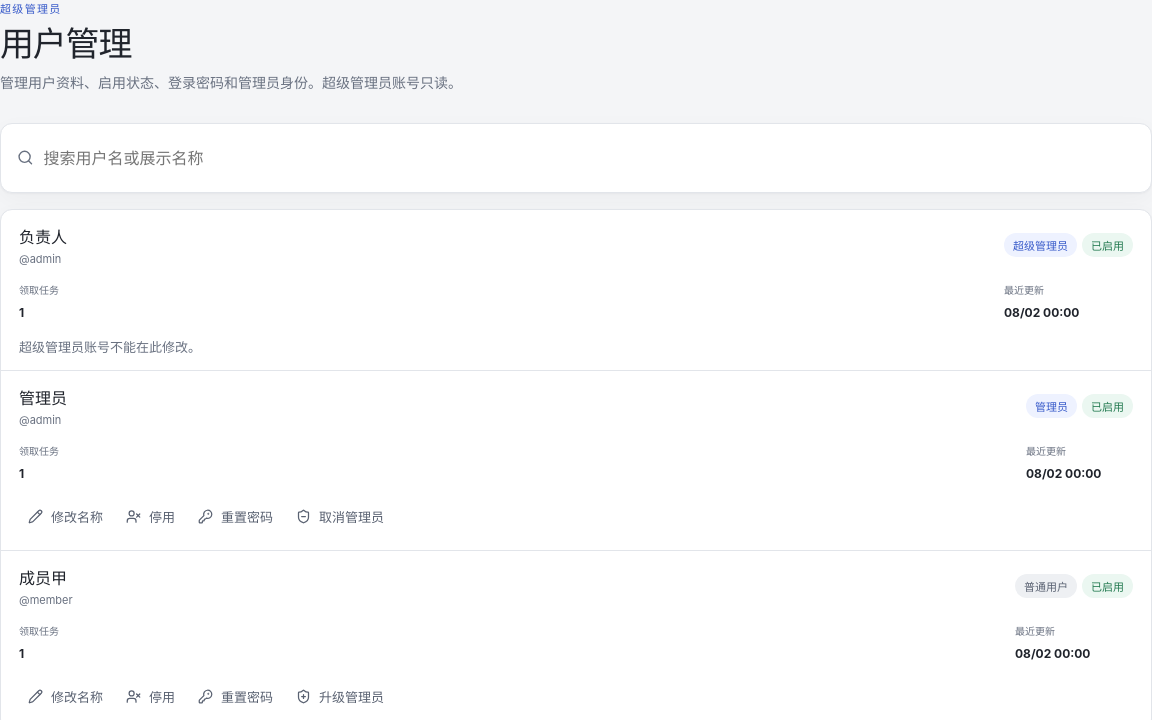
Test: stage 5 user management › limits account controls for super_admin
Expected: the text "负责人" is shown, [19, 226, 67, 246]
Expected: the 1st button "重置密码" is shown, [189, 498, 282, 536]
Click the button "升级管理员" at x=340, y=696, box [287, 678, 393, 716]
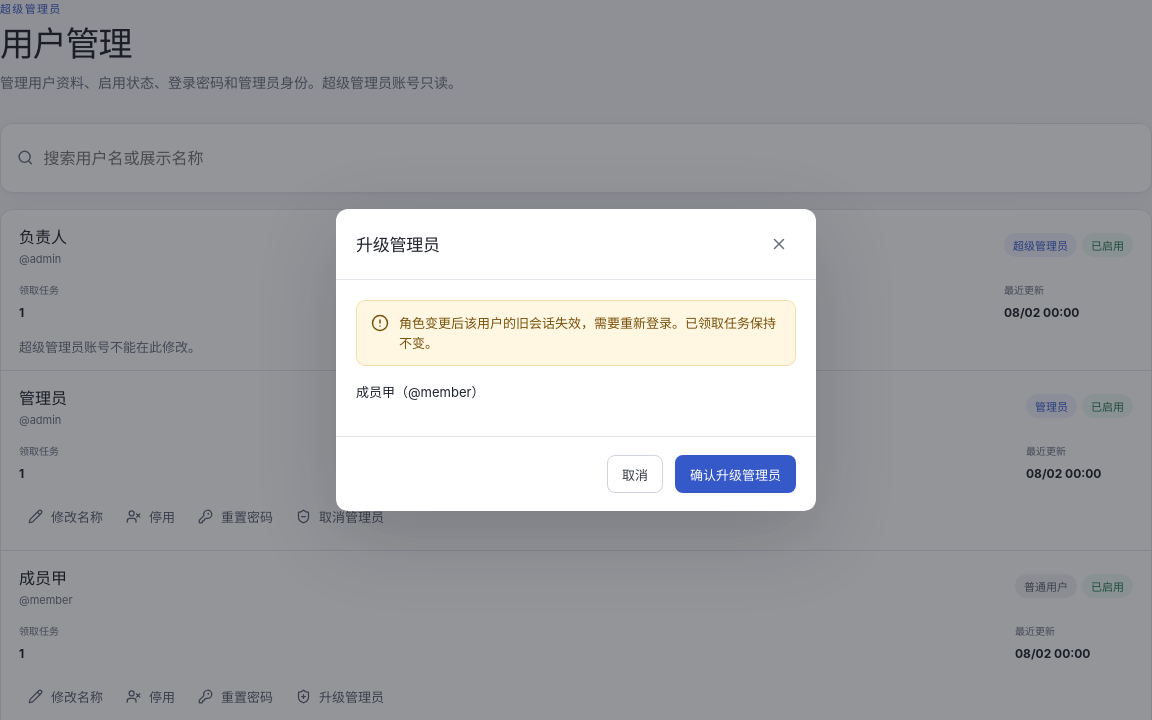
Now the text "角色变更后该用户的旧会话失效，需要重新登录。已领取任务保持不变。" is shown, box [399, 313, 781, 353]
Click the button "确认升级管理员" at x=736, y=474, box [675, 455, 796, 493]
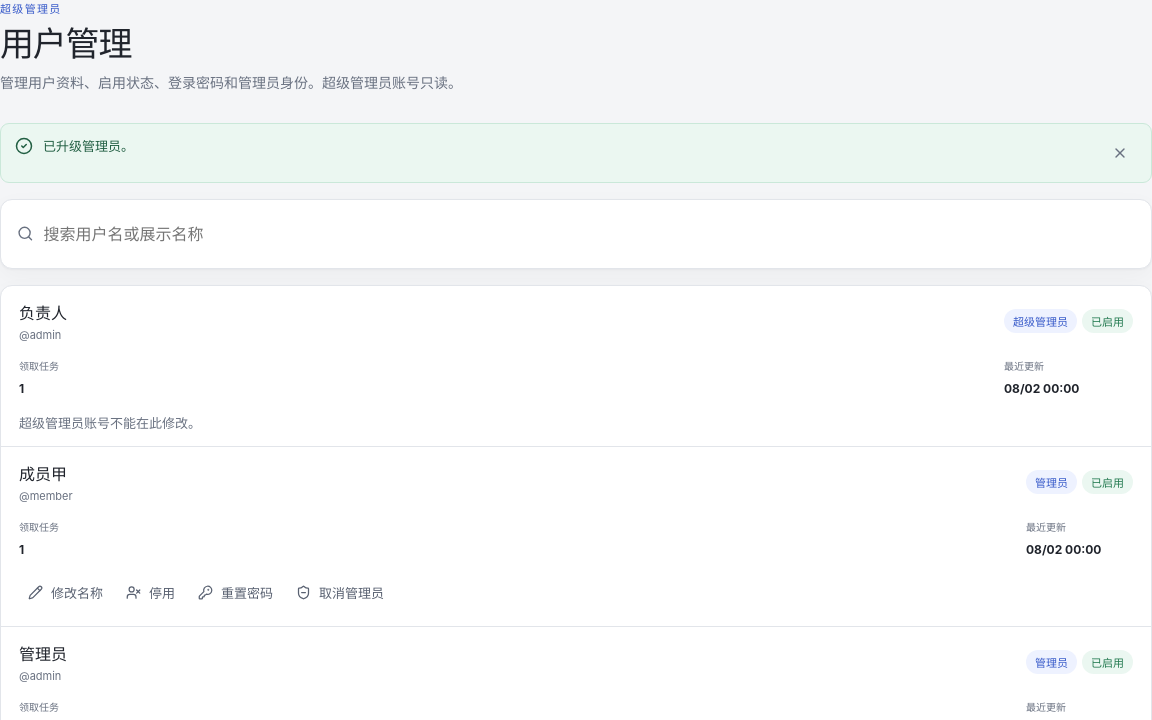
Now the text "已升级管理员。" is shown, box [43, 138, 134, 154]
Click the button "取消管理员" at x=340, y=592, box [287, 574, 393, 612]
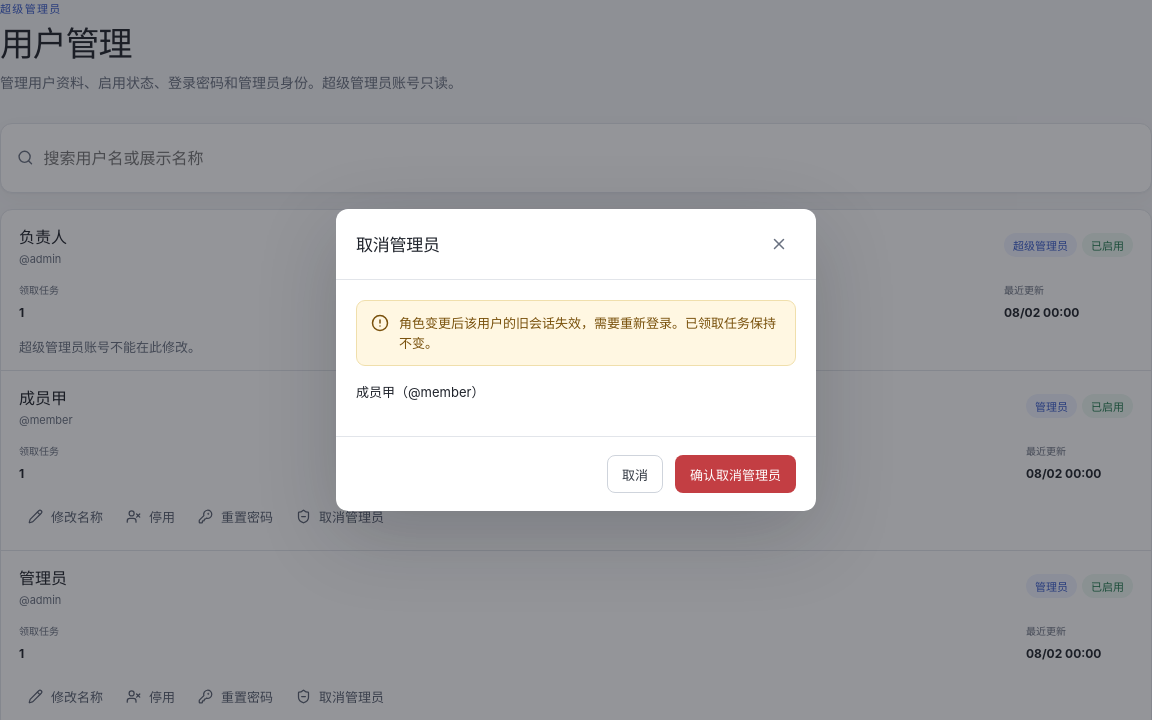
Click the button "确认取消管理员" at x=736, y=474, box [675, 455, 796, 493]
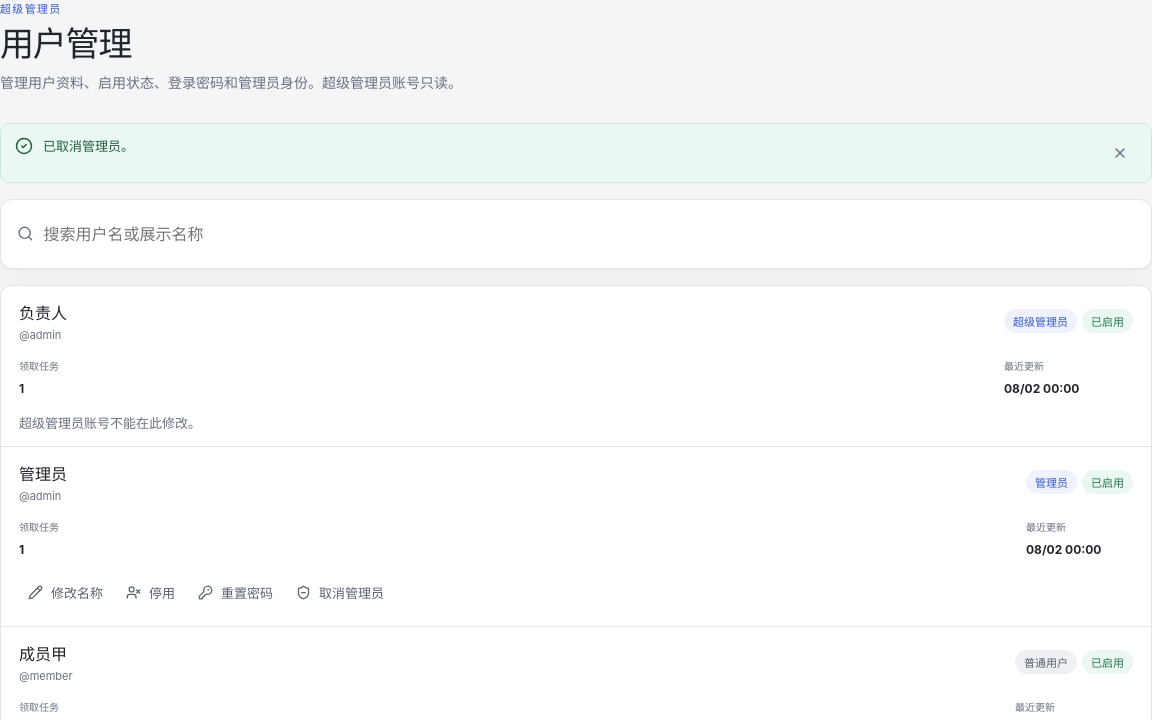
Now the text "已取消管理员。" is shown, box [43, 138, 134, 154]
